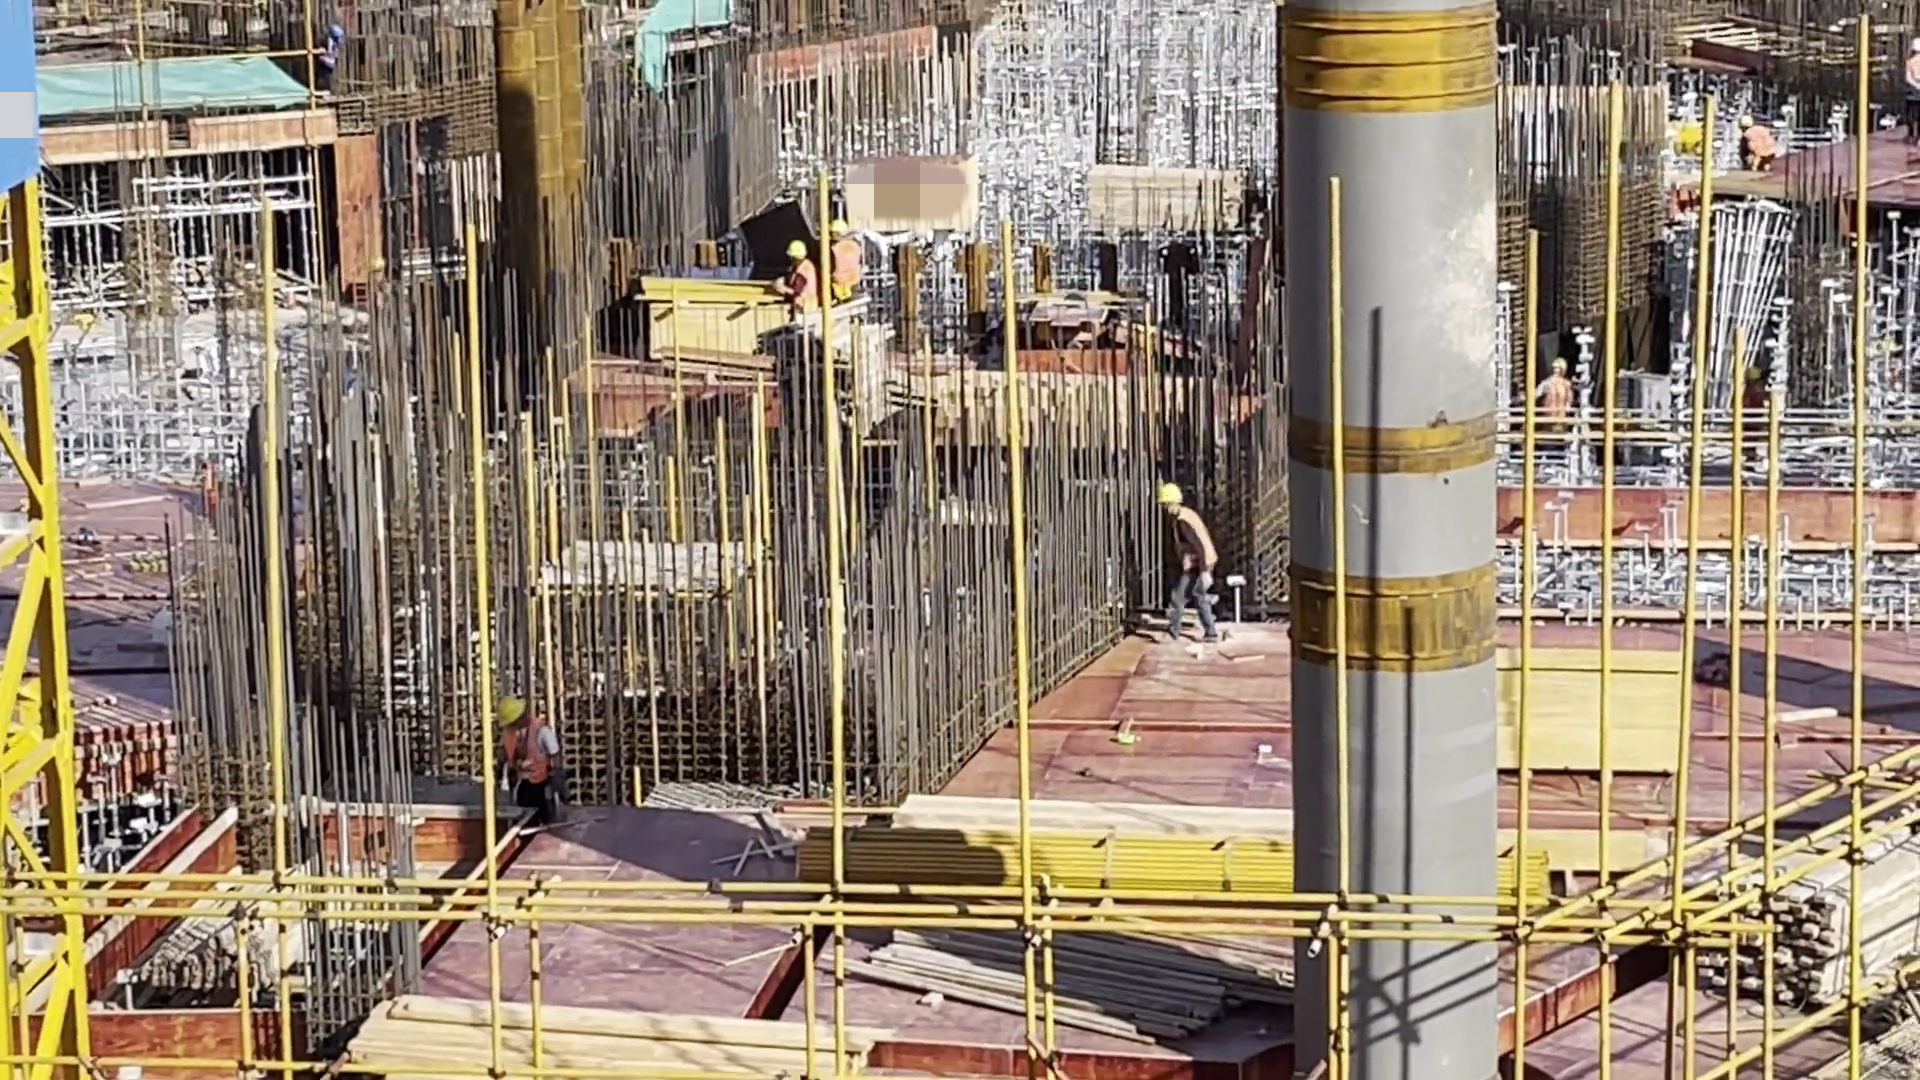board: (1493, 622, 1681, 783), (637, 273, 777, 359)
helmet: (496, 696, 527, 734), (1156, 480, 1185, 512), (786, 239, 806, 266), (830, 219, 850, 243), (1551, 356, 1572, 380), (328, 23, 344, 41), (1740, 113, 1754, 134)
person: (1156, 481, 1220, 646), (496, 690, 559, 822), (1534, 351, 1580, 448), (783, 241, 829, 330), (826, 213, 866, 298), (1737, 108, 1783, 180), (317, 20, 351, 85), (1901, 37, 1920, 155)
vest: (1167, 504, 1221, 579), (493, 723, 552, 783), (1539, 371, 1580, 436), (833, 238, 868, 298), (786, 265, 818, 322), (1744, 126, 1778, 164)
wood: (334, 967, 819, 1080), (1076, 163, 1244, 239)
